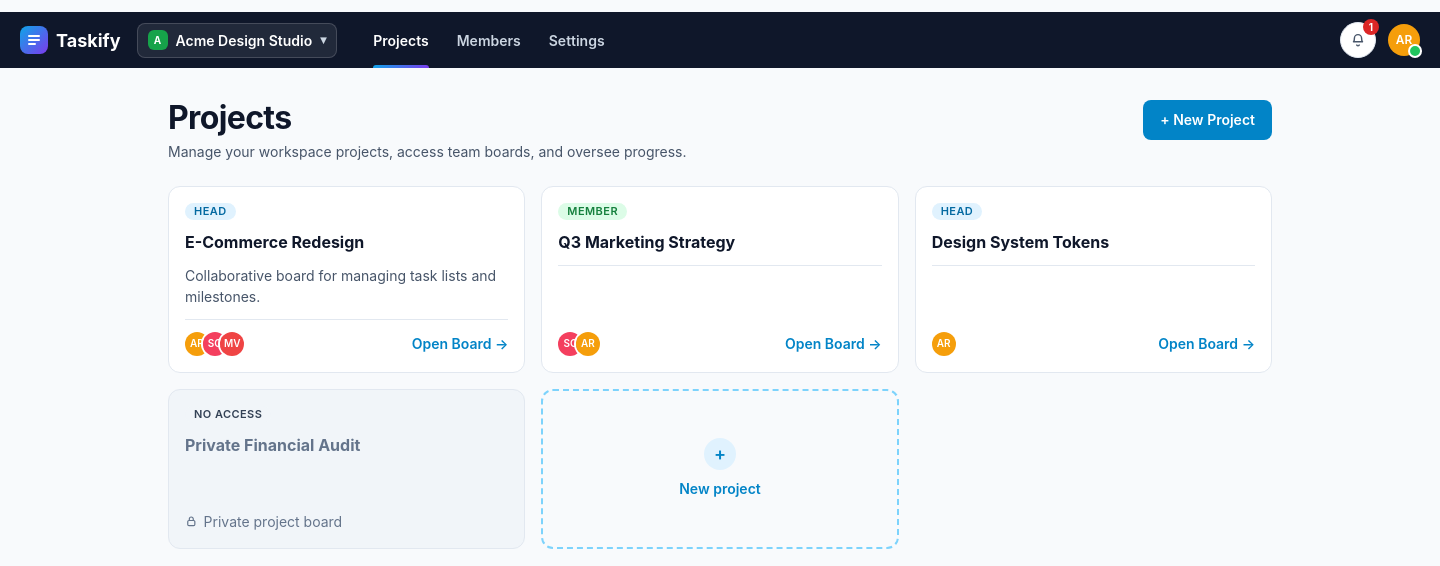
Test: ProjectsPage › opens a project tile -> project boards route
What coordinates should you click on to do the following:
click the button "E-Commerce Redesign"
I would click on:
 (347, 279)
Its box is [168,186,525,373].
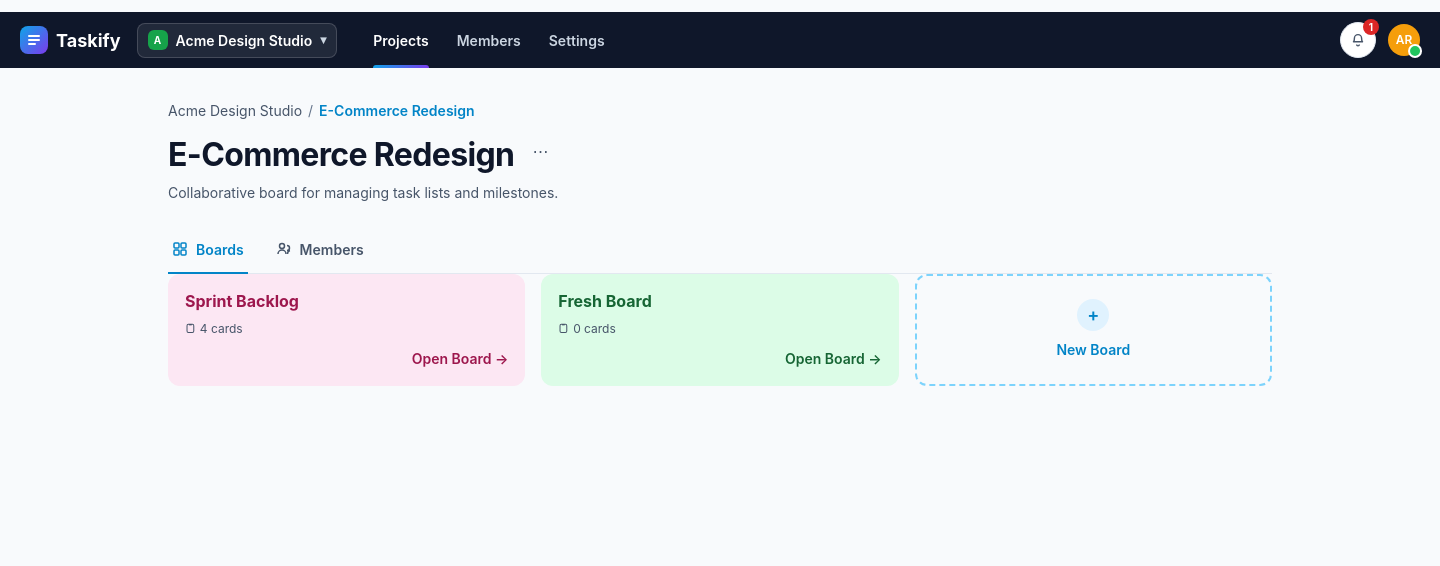
Result: the heading "E-Commerce Redesign" is shown at [168,137,514,174]
